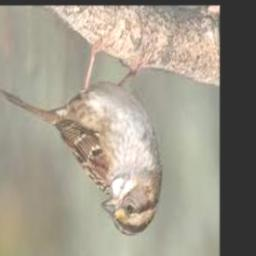Sparrow: (0, 35, 162, 235)
